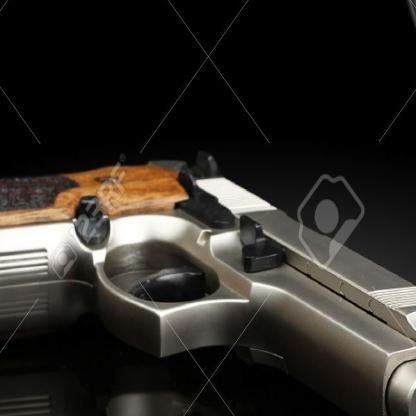gun: (0, 123, 415, 416)
